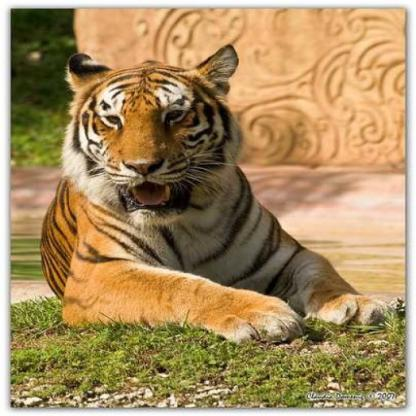Tiger: (40, 27, 376, 353)
